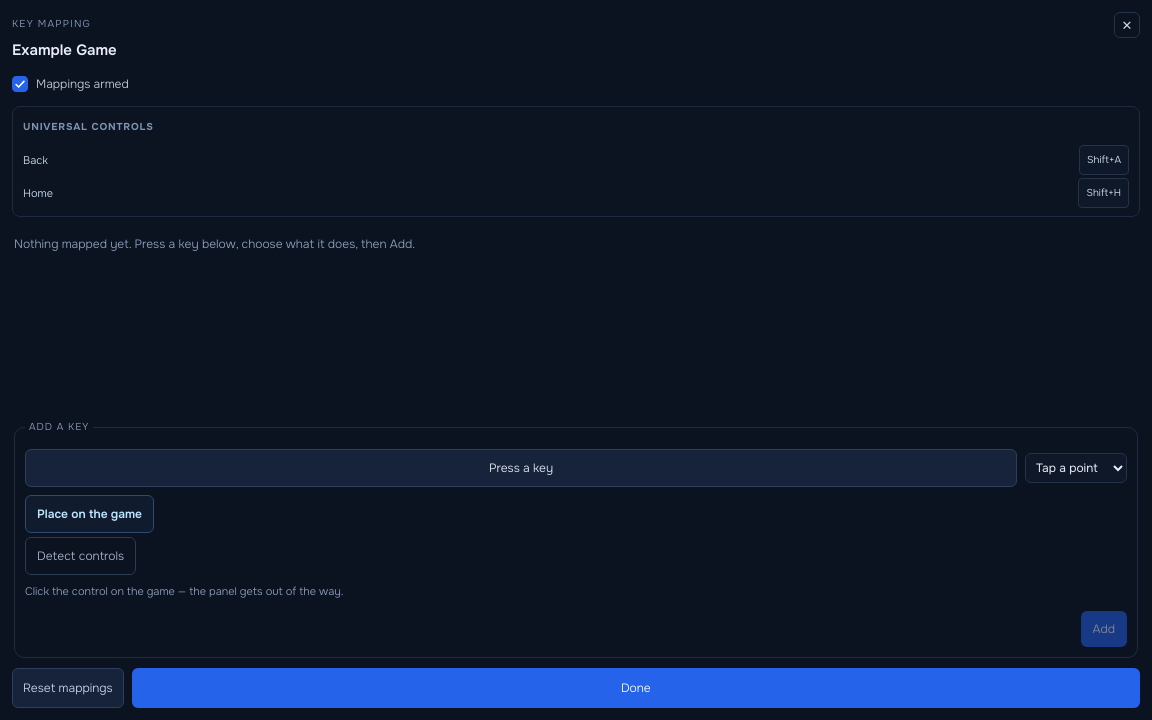
Test: key-mapping panel › rebinds a universal control and shows the chosen chord
Click the button with aria-label "Change Back". click: {"x": 1104, "y": 160}
box: top-left (1079, 145), bottom-right (1129, 175)
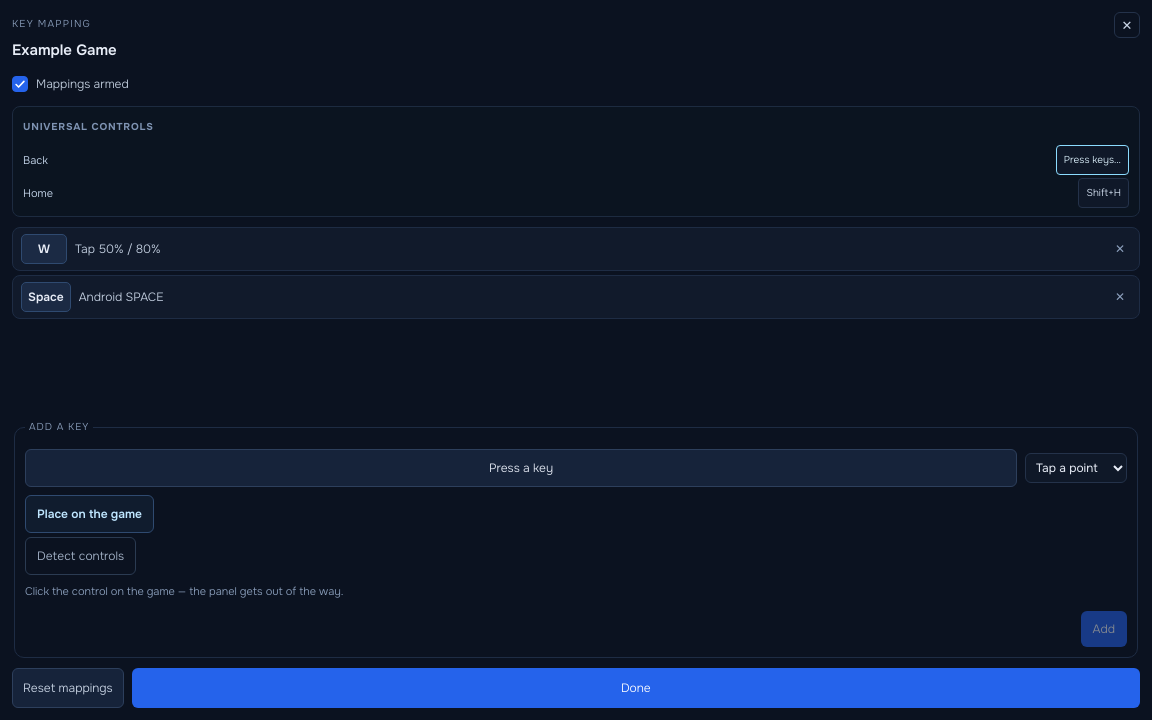
Now the button with aria-label "Change Back" reads "Press keys…"
Press B in the button with aria-label "Change Back", box top-left (1056, 145), bottom-right (1129, 175)
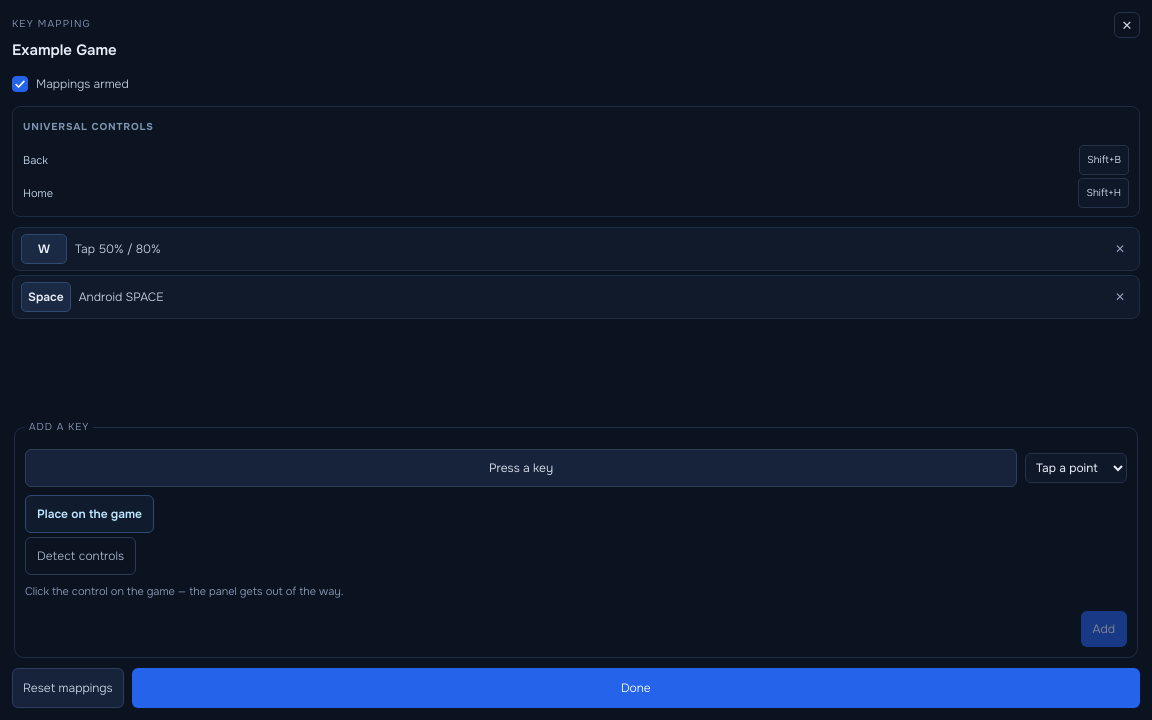
Now the button with aria-label "Change Back" reads "Shift+B", box top-left (1079, 145), bottom-right (1129, 175)
